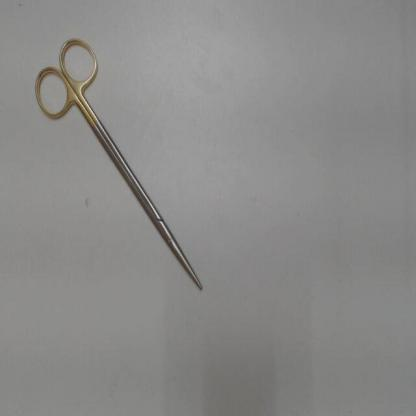7 Metzenbaum Scissors: (31, 32, 207, 296)
